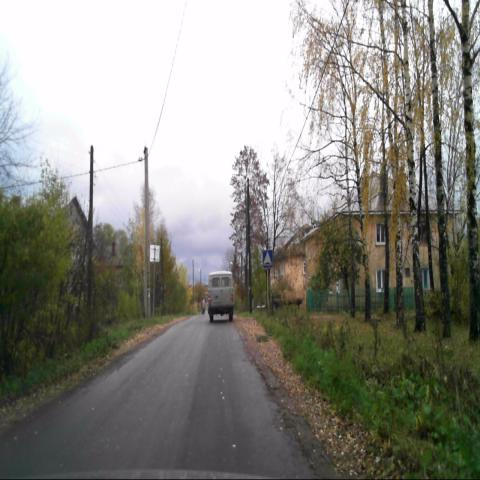5_20: (262, 248, 272, 268)
